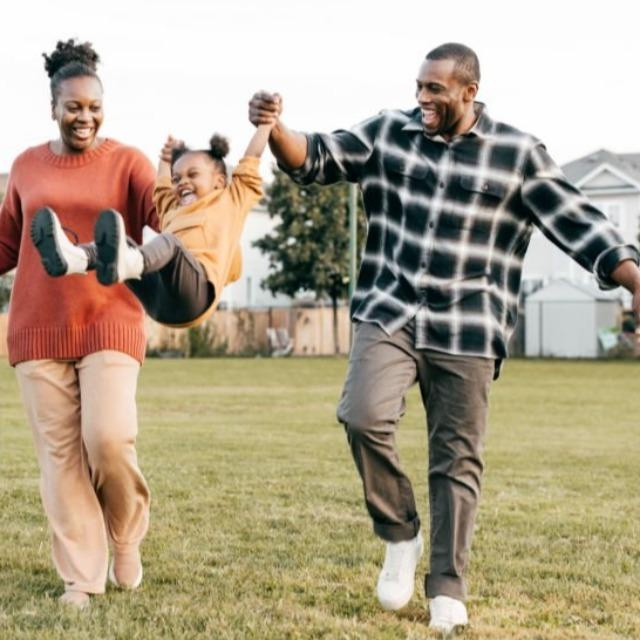Sin_Casco_Mascarrilla: (413, 43, 481, 138), (46, 61, 109, 151)
Sin_Chaleco: (348, 111, 528, 365), (3, 141, 142, 366)
